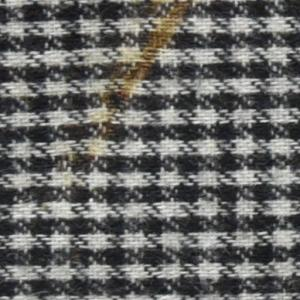Oil Stain: (34, 1, 202, 215)
